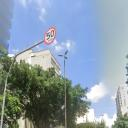speed_limit_50: (44, 27, 56, 45)
